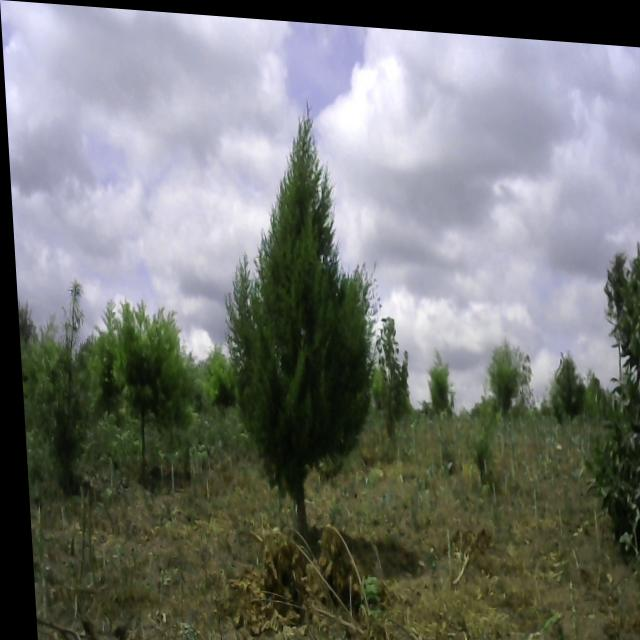cedrus: (214, 92, 390, 531), (89, 274, 202, 489)
